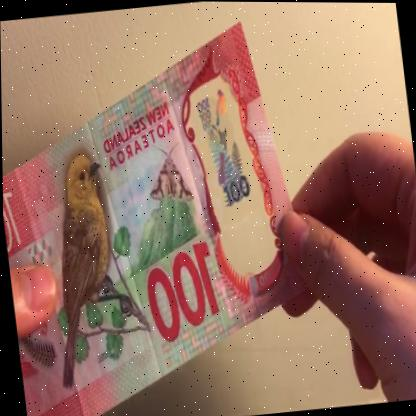100B: (192, 81, 256, 223)
